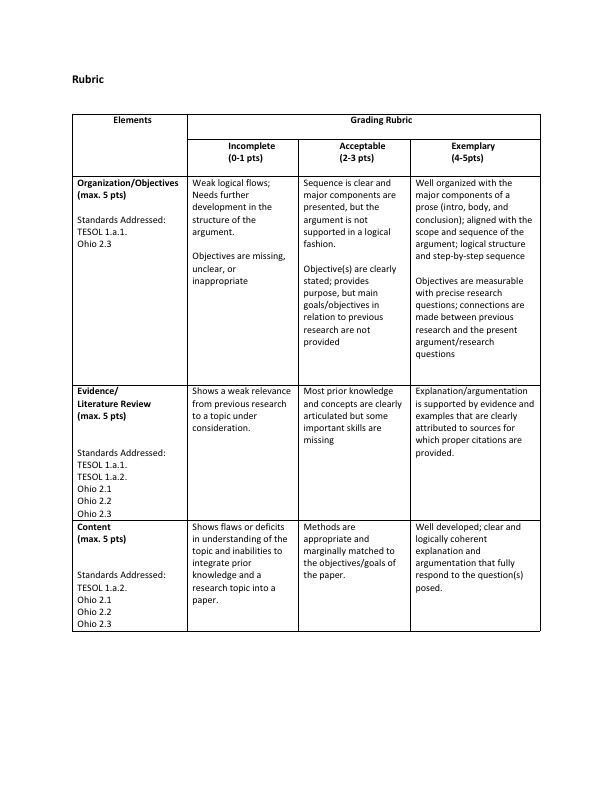table: (67, 106, 554, 644)
text: (65, 71, 110, 87)
